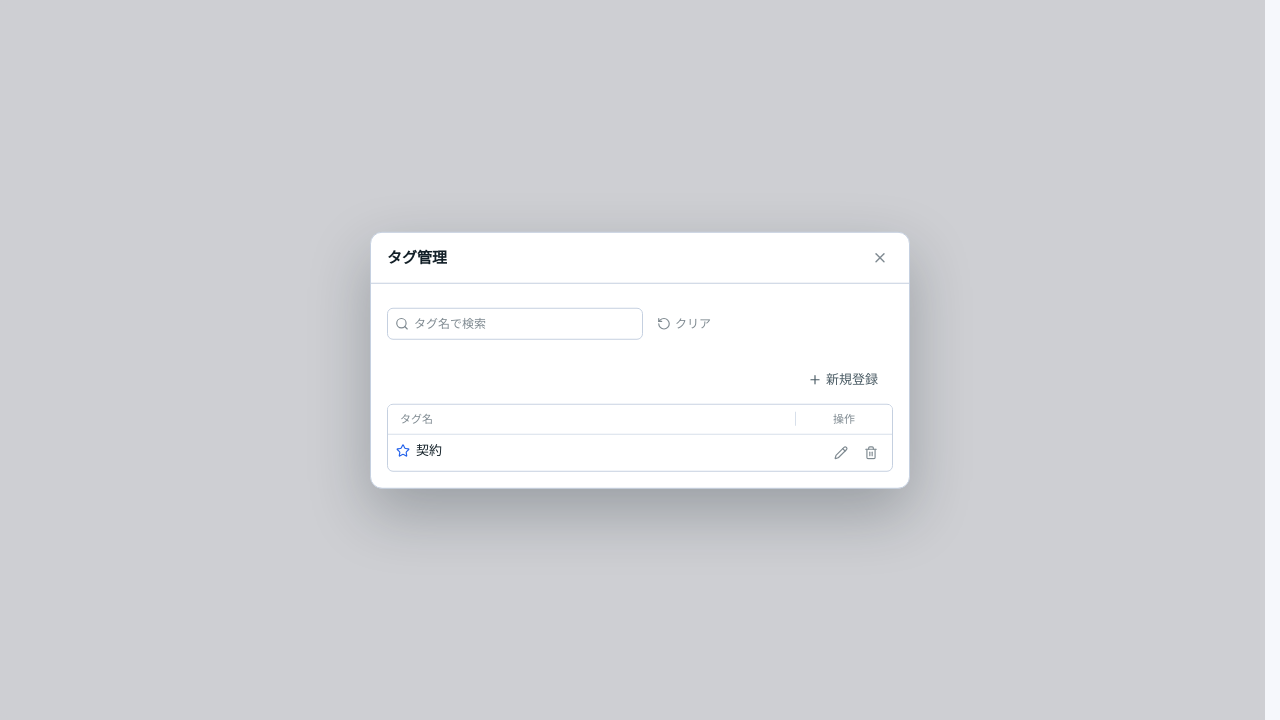
Test: TagMasterOverlay — archiveFilter 提供時のフィルタ行/新規登録の段分け（hom-0135） › File 経路でキーワードに一致が無い時は「検索条件に一致するタグがありません」を表示（fil-0093）
Type "xyz" into the search field labelled "タグ名で検索" at (515, 324), box [387,308,643,340]
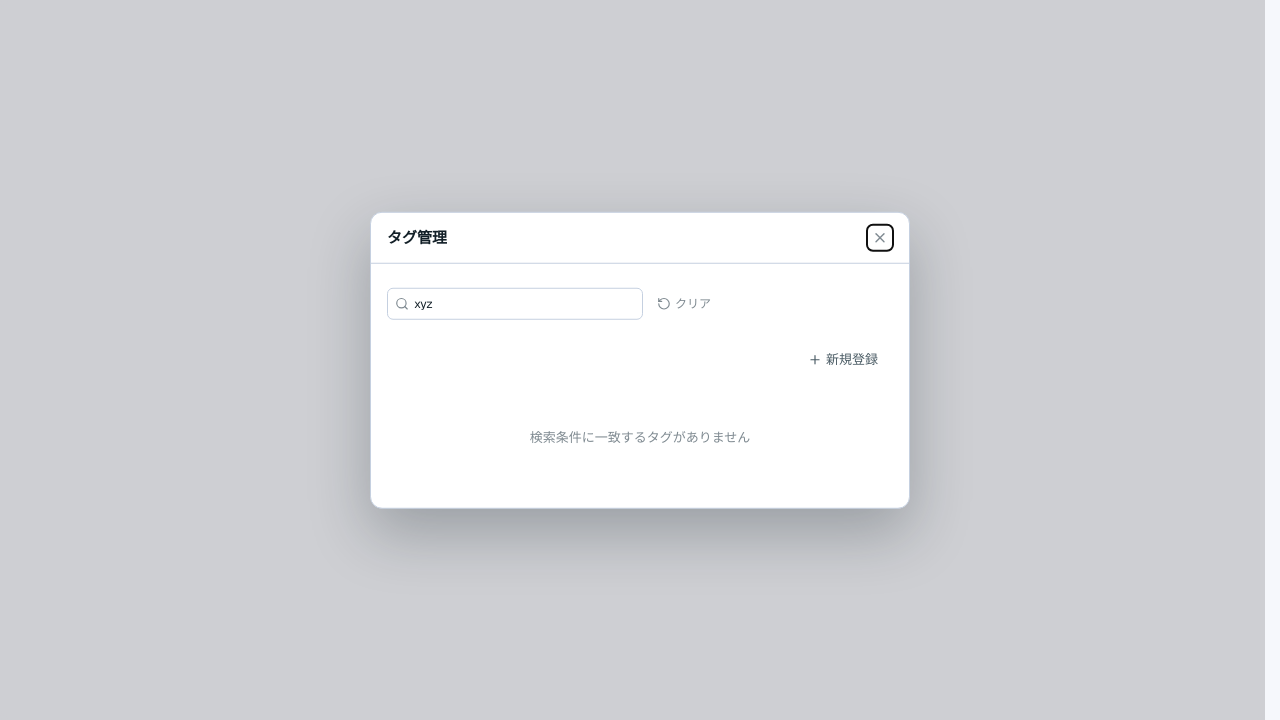
Check: the text "検索条件に一致するタグがありません" is shown, box [530,429,750,446]
